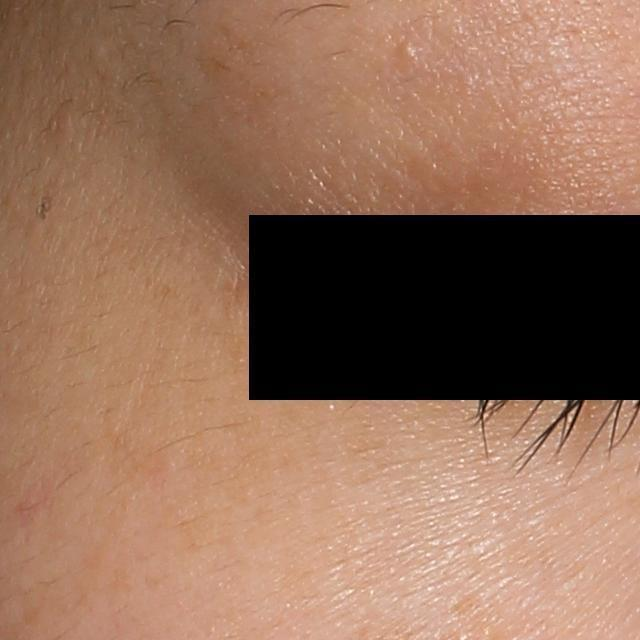comedo: (391, 37, 418, 63)
